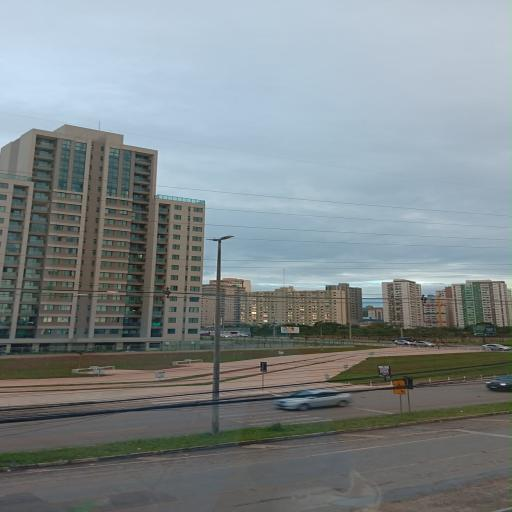bottle: (272, 388, 358, 412), (481, 342, 511, 352), (412, 340, 436, 348)
phone: (211, 236, 233, 402)
